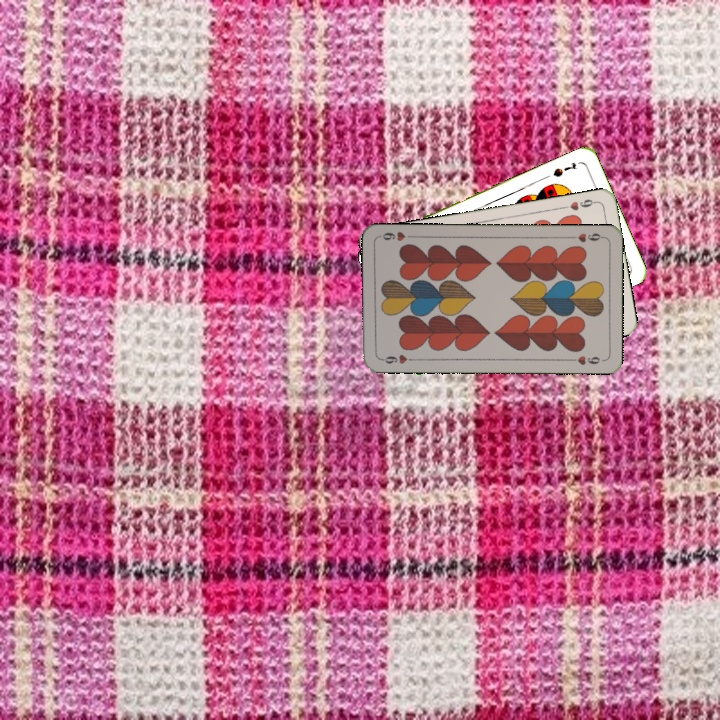H9: (559, 195, 600, 213), (566, 229, 606, 245), (377, 351, 417, 367)
S7: (549, 158, 580, 180)
